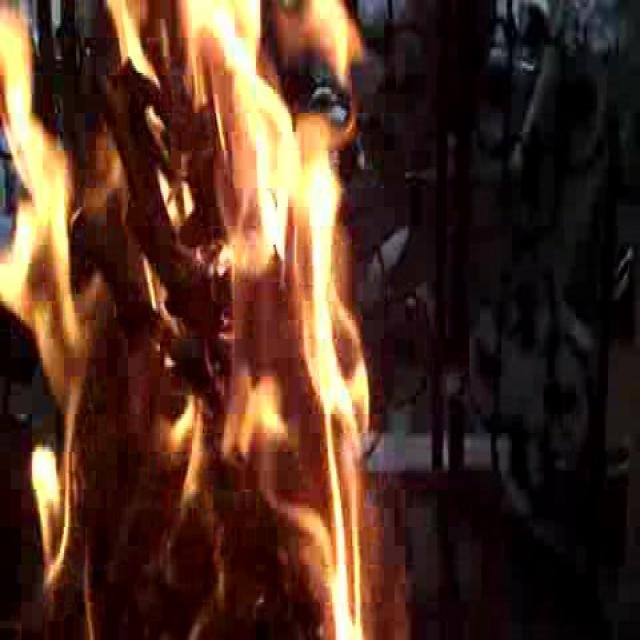fire: (8, 8, 376, 629)
